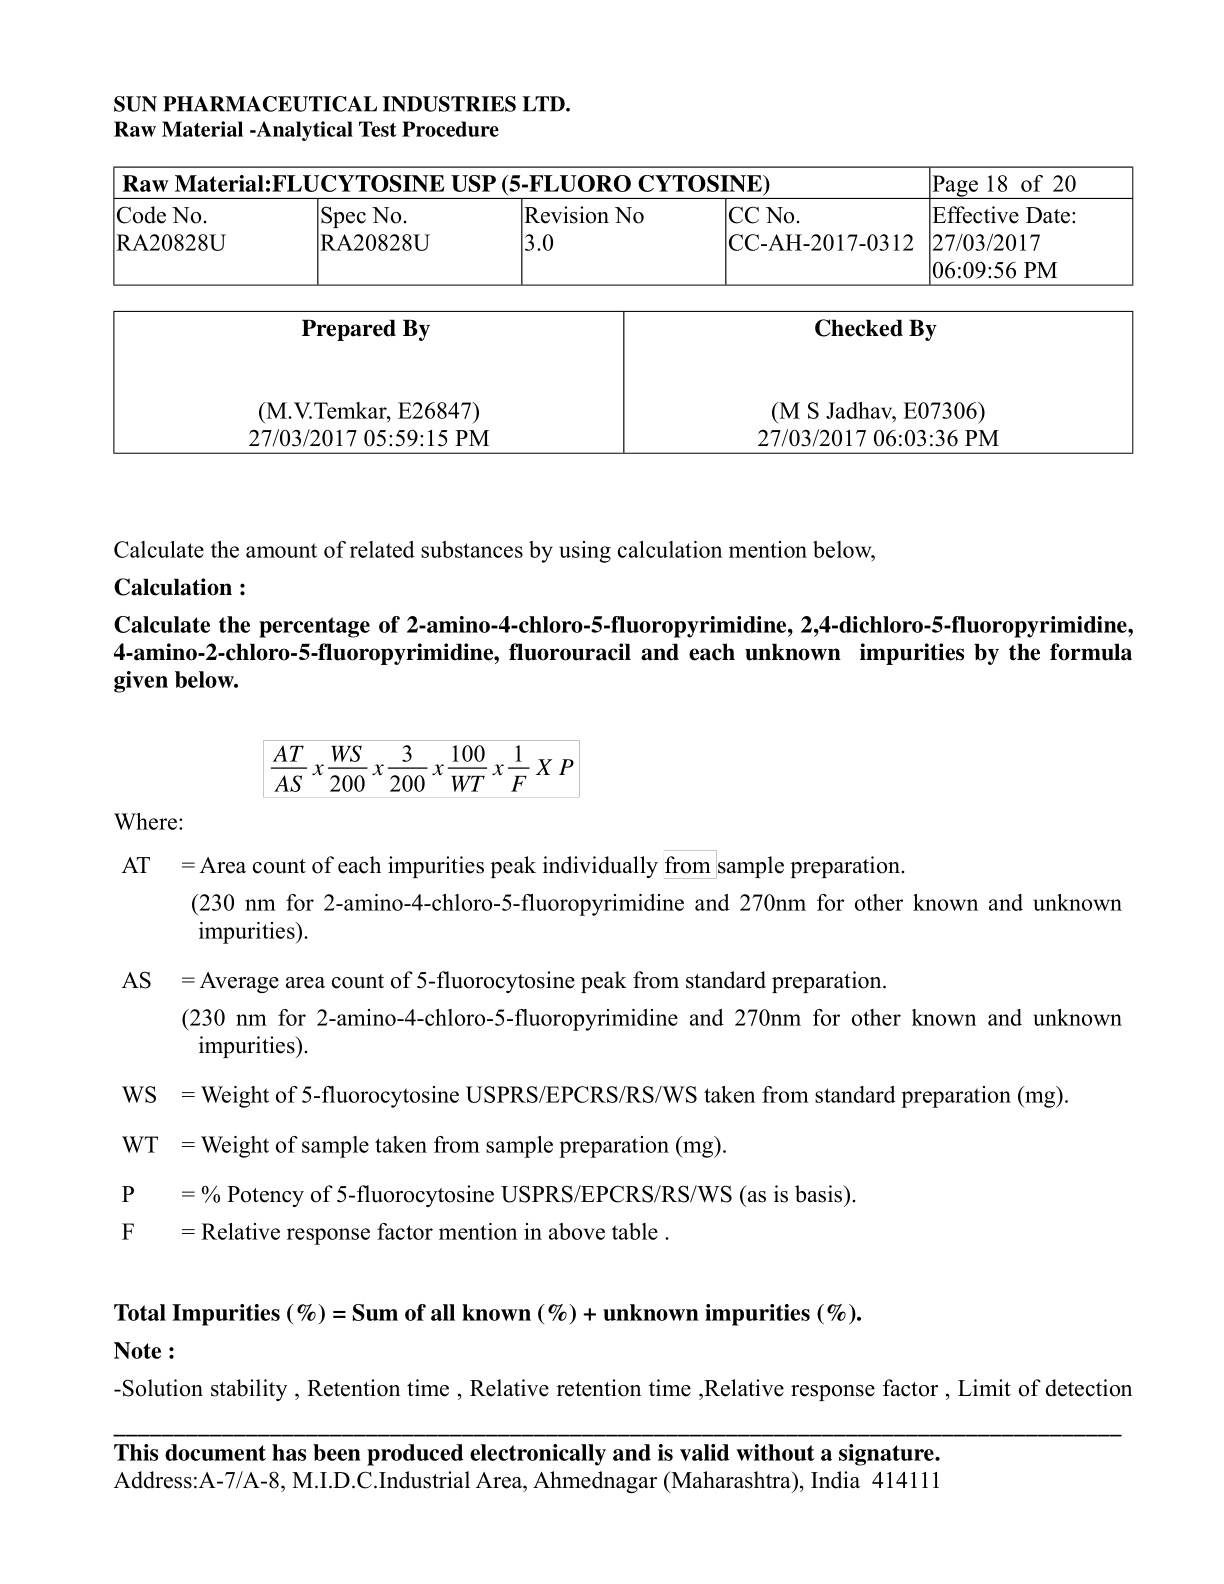full_lined: (111, 309, 1134, 456)
merged_cells: (111, 165, 1134, 287)
